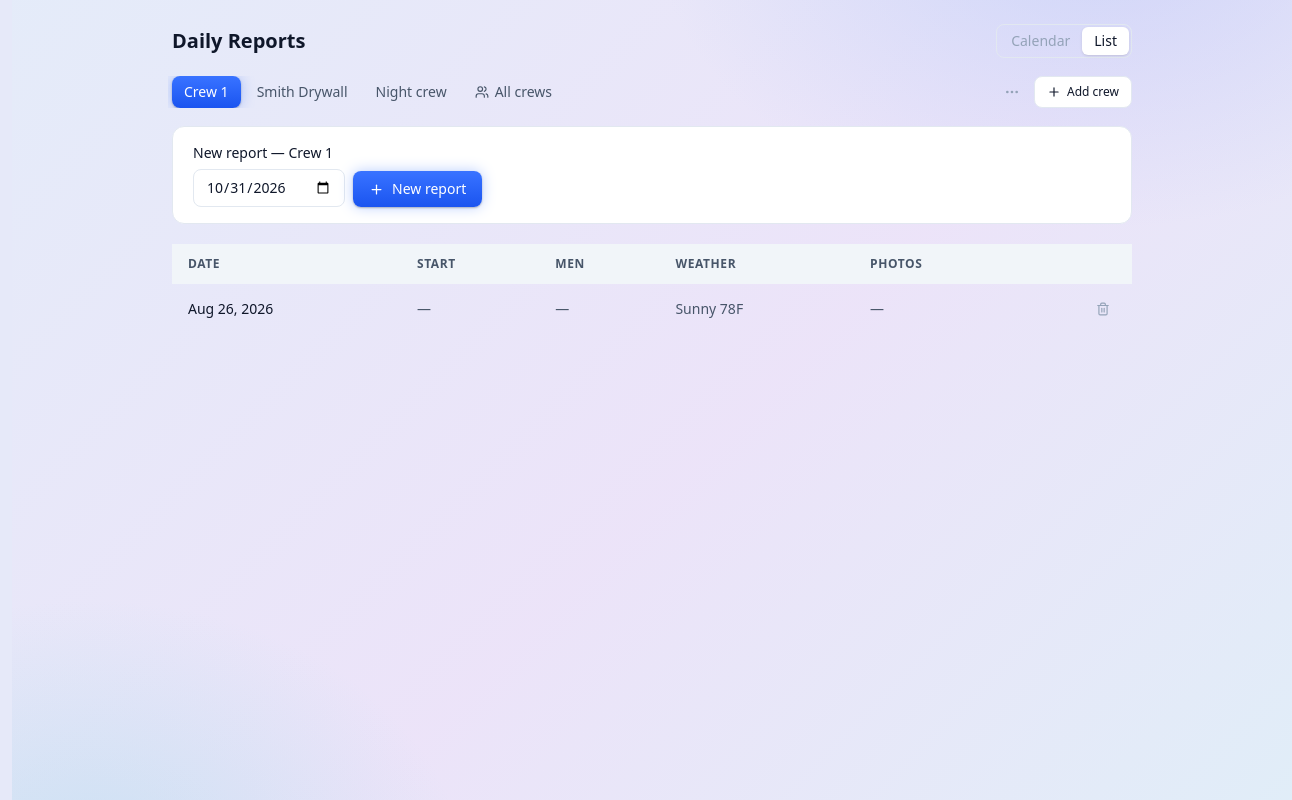
it: ProjectDailyReports — crews › switching tabs shows that crew's reports and keeps the tab in the URL
The width and height of the screenshot is (1292, 800).
Click the tab "Smith Drywall" at (302, 92), box [245,76,360,108]
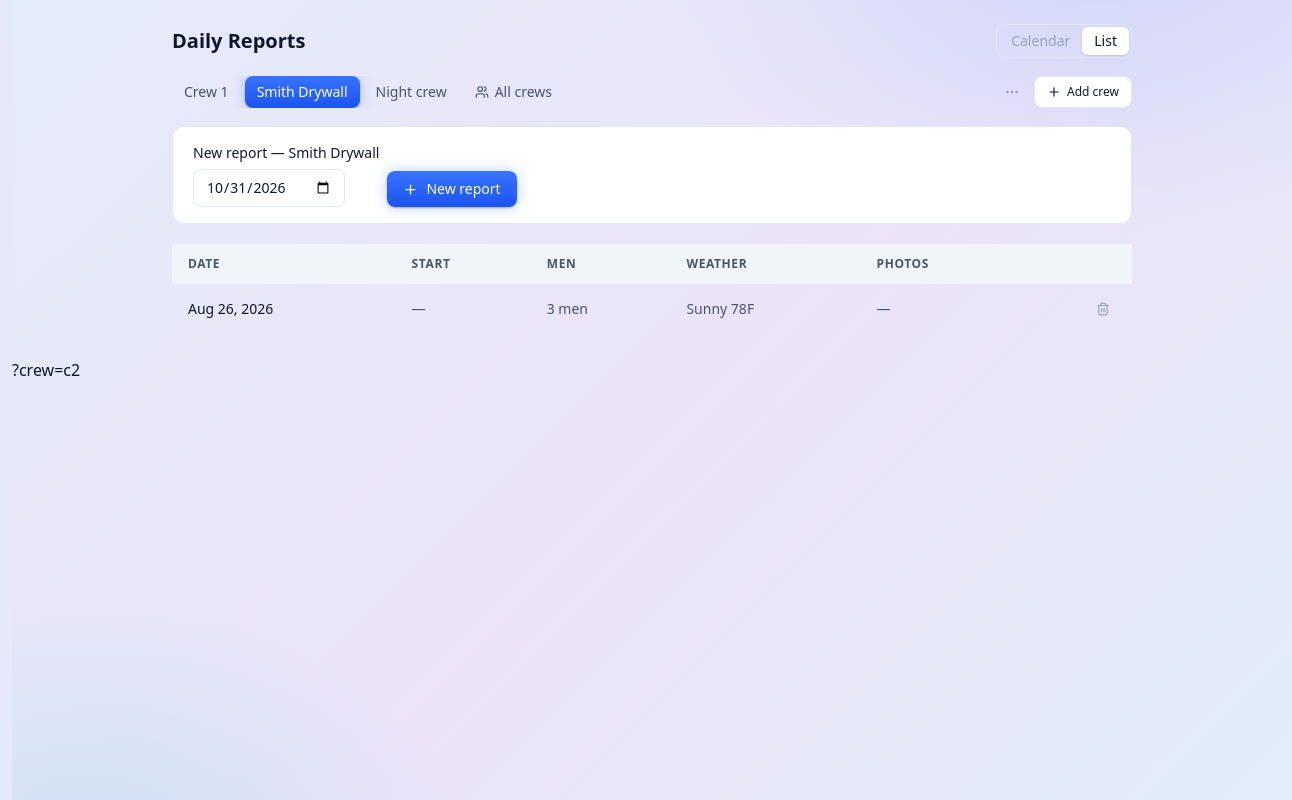
Expected: the number of rows is 2, [172,244,1132,284]; [172,284,1132,334]
Expected: the text with test id "search" reads "?crew=c2", [12,359,80,381]
Expected: the row "Aug 26, 2026 — 3 men Sunny 78F —" is shown, [172,284,1132,334]
Click the tab "Night crew" at (411, 92), box [364,76,459,108]
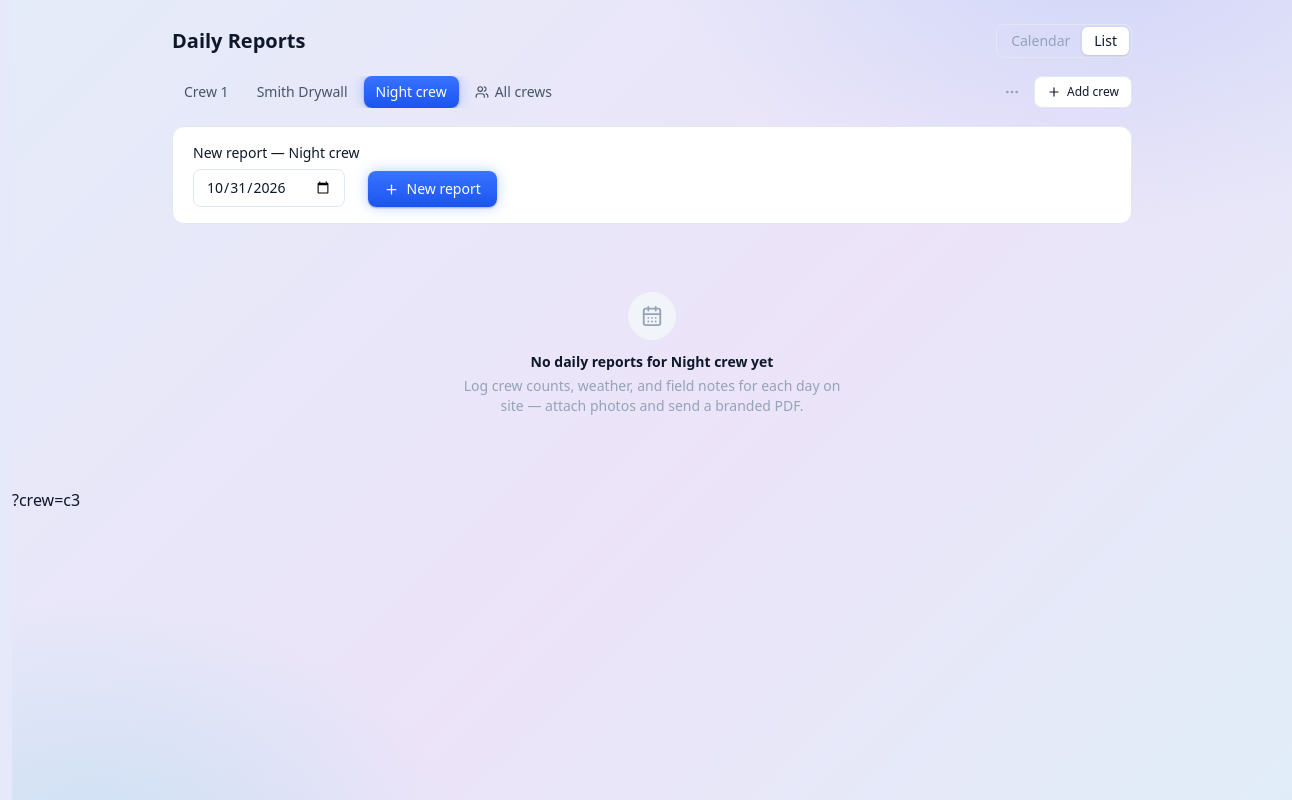
Expected: the heading "No daily reports for Night crew yet" is shown, [531,352,773,372]
